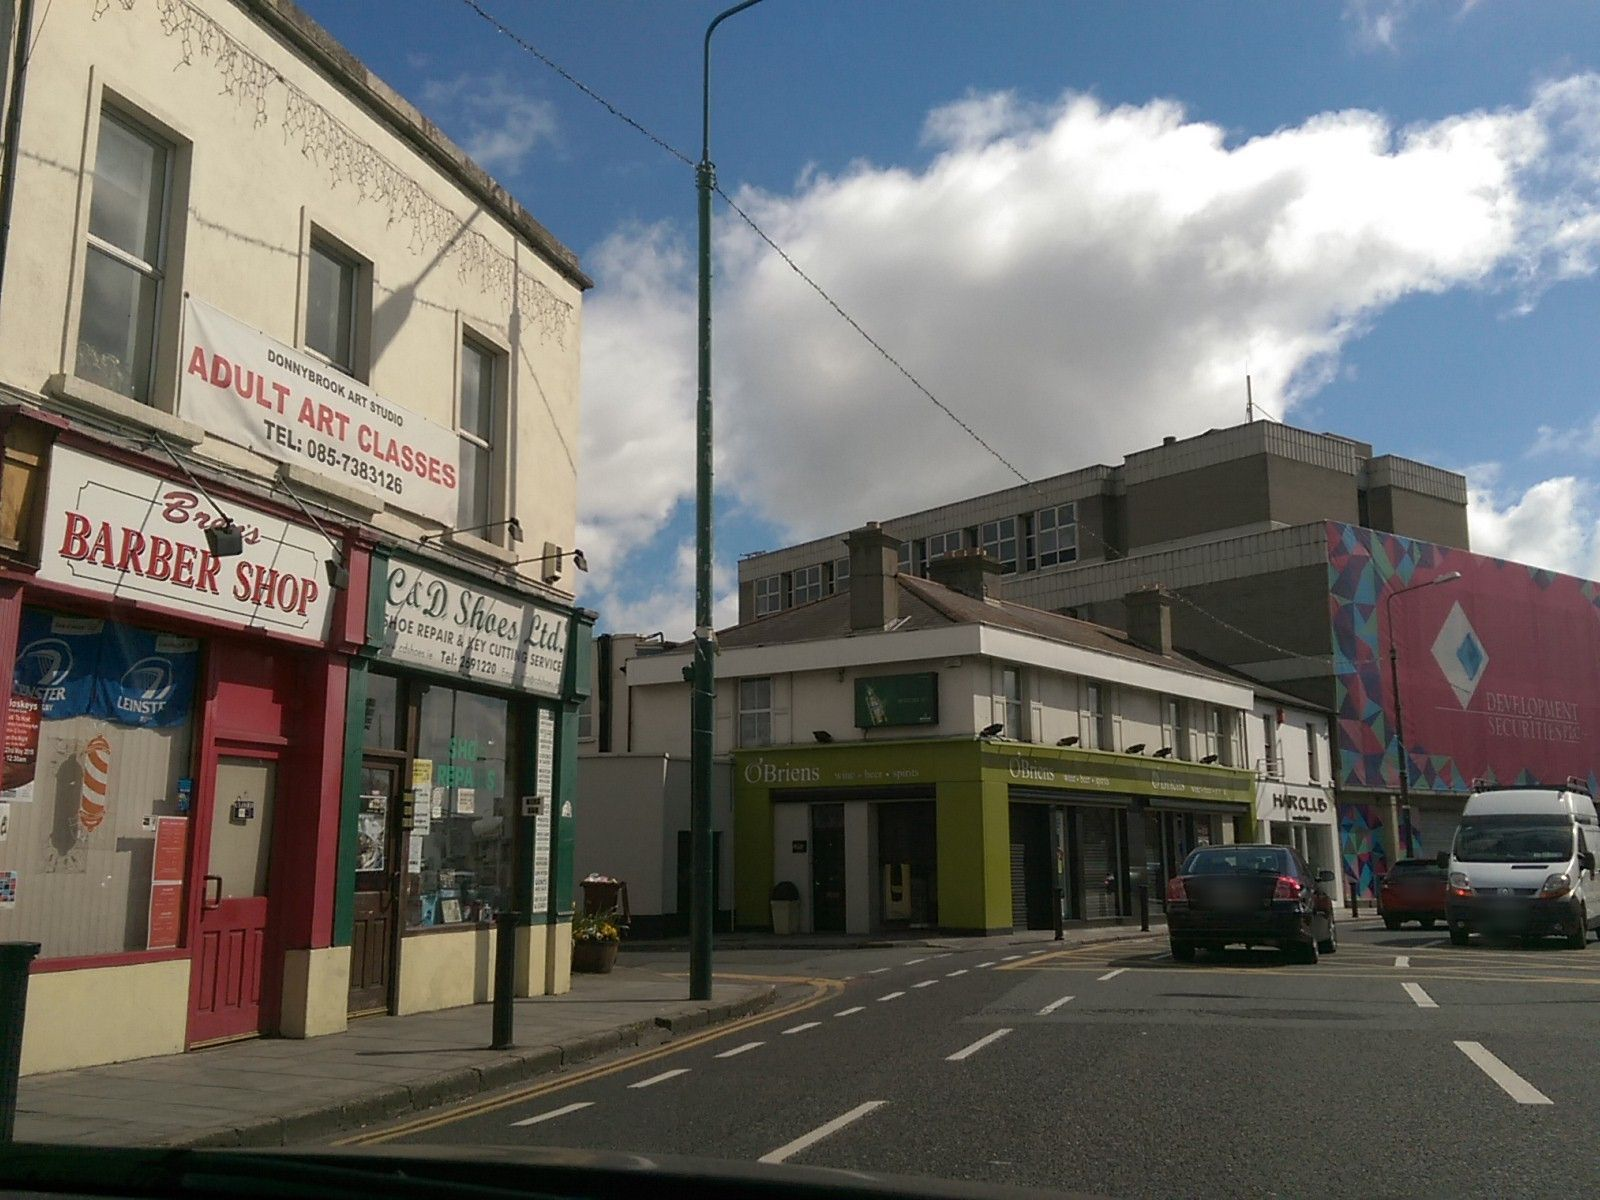vinyl banner: (170, 275, 486, 546)
